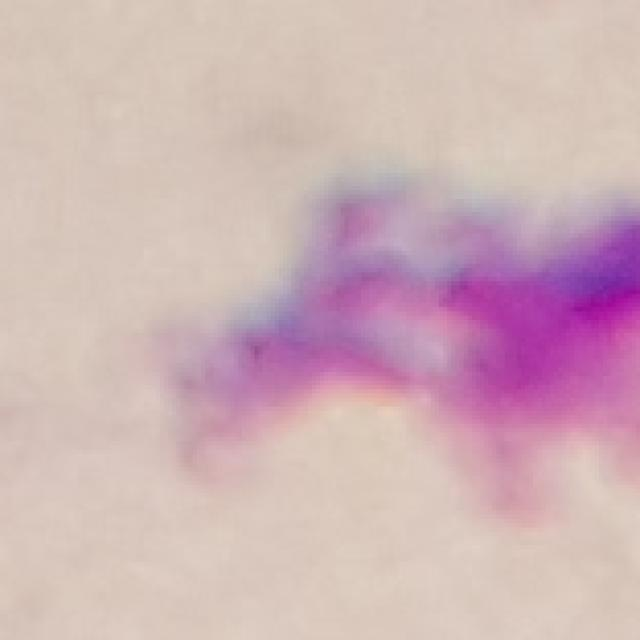non-sperm: (207, 203, 640, 441)
